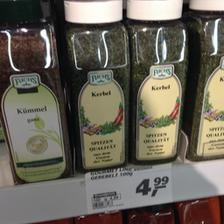Gewuerze: (1, 1, 72, 182), (61, 1, 127, 172), (125, 0, 191, 163)
